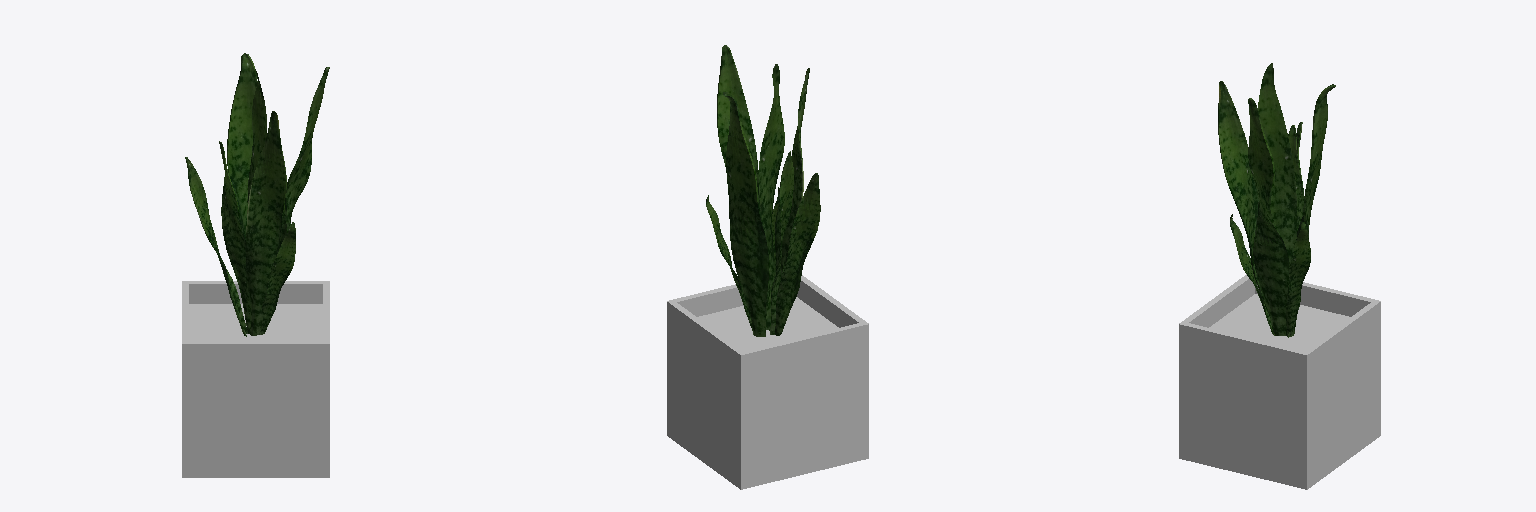
The picture shows the model from 3 angles: view 1: azimuth 30°, elevation 25°; view 2: azimuth 150°, elevation 25°; view 3: azimuth 270°, elevation 25°; orthographic projection.
Visible parts, largest first — view 1: pot; view 2: pot; view 3: pot.
Boxes of the visible parts, x1,y1,x2,y2 form: pot: [182, 53, 329, 477]; pot: [667, 45, 868, 489]; pot: [1179, 63, 1380, 489].
Size of the model in its own units: 2.73 by 5.68 by 2.73.
Materials: 3 (1 with a texture image).